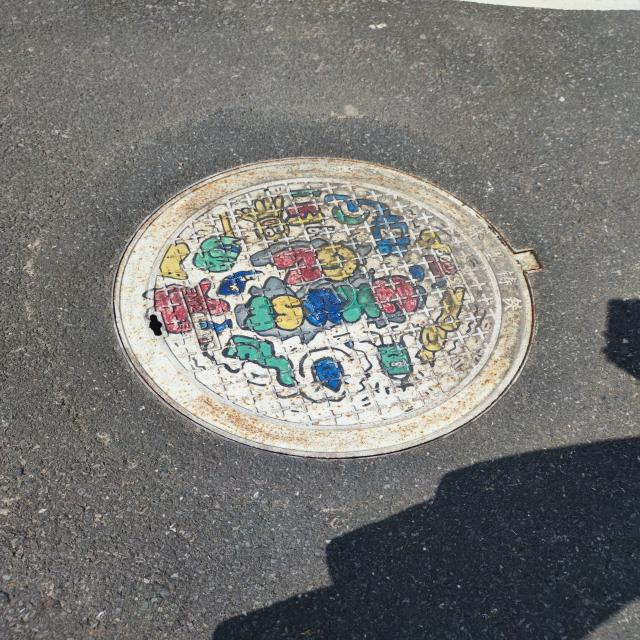Good: (105, 150, 549, 468)
